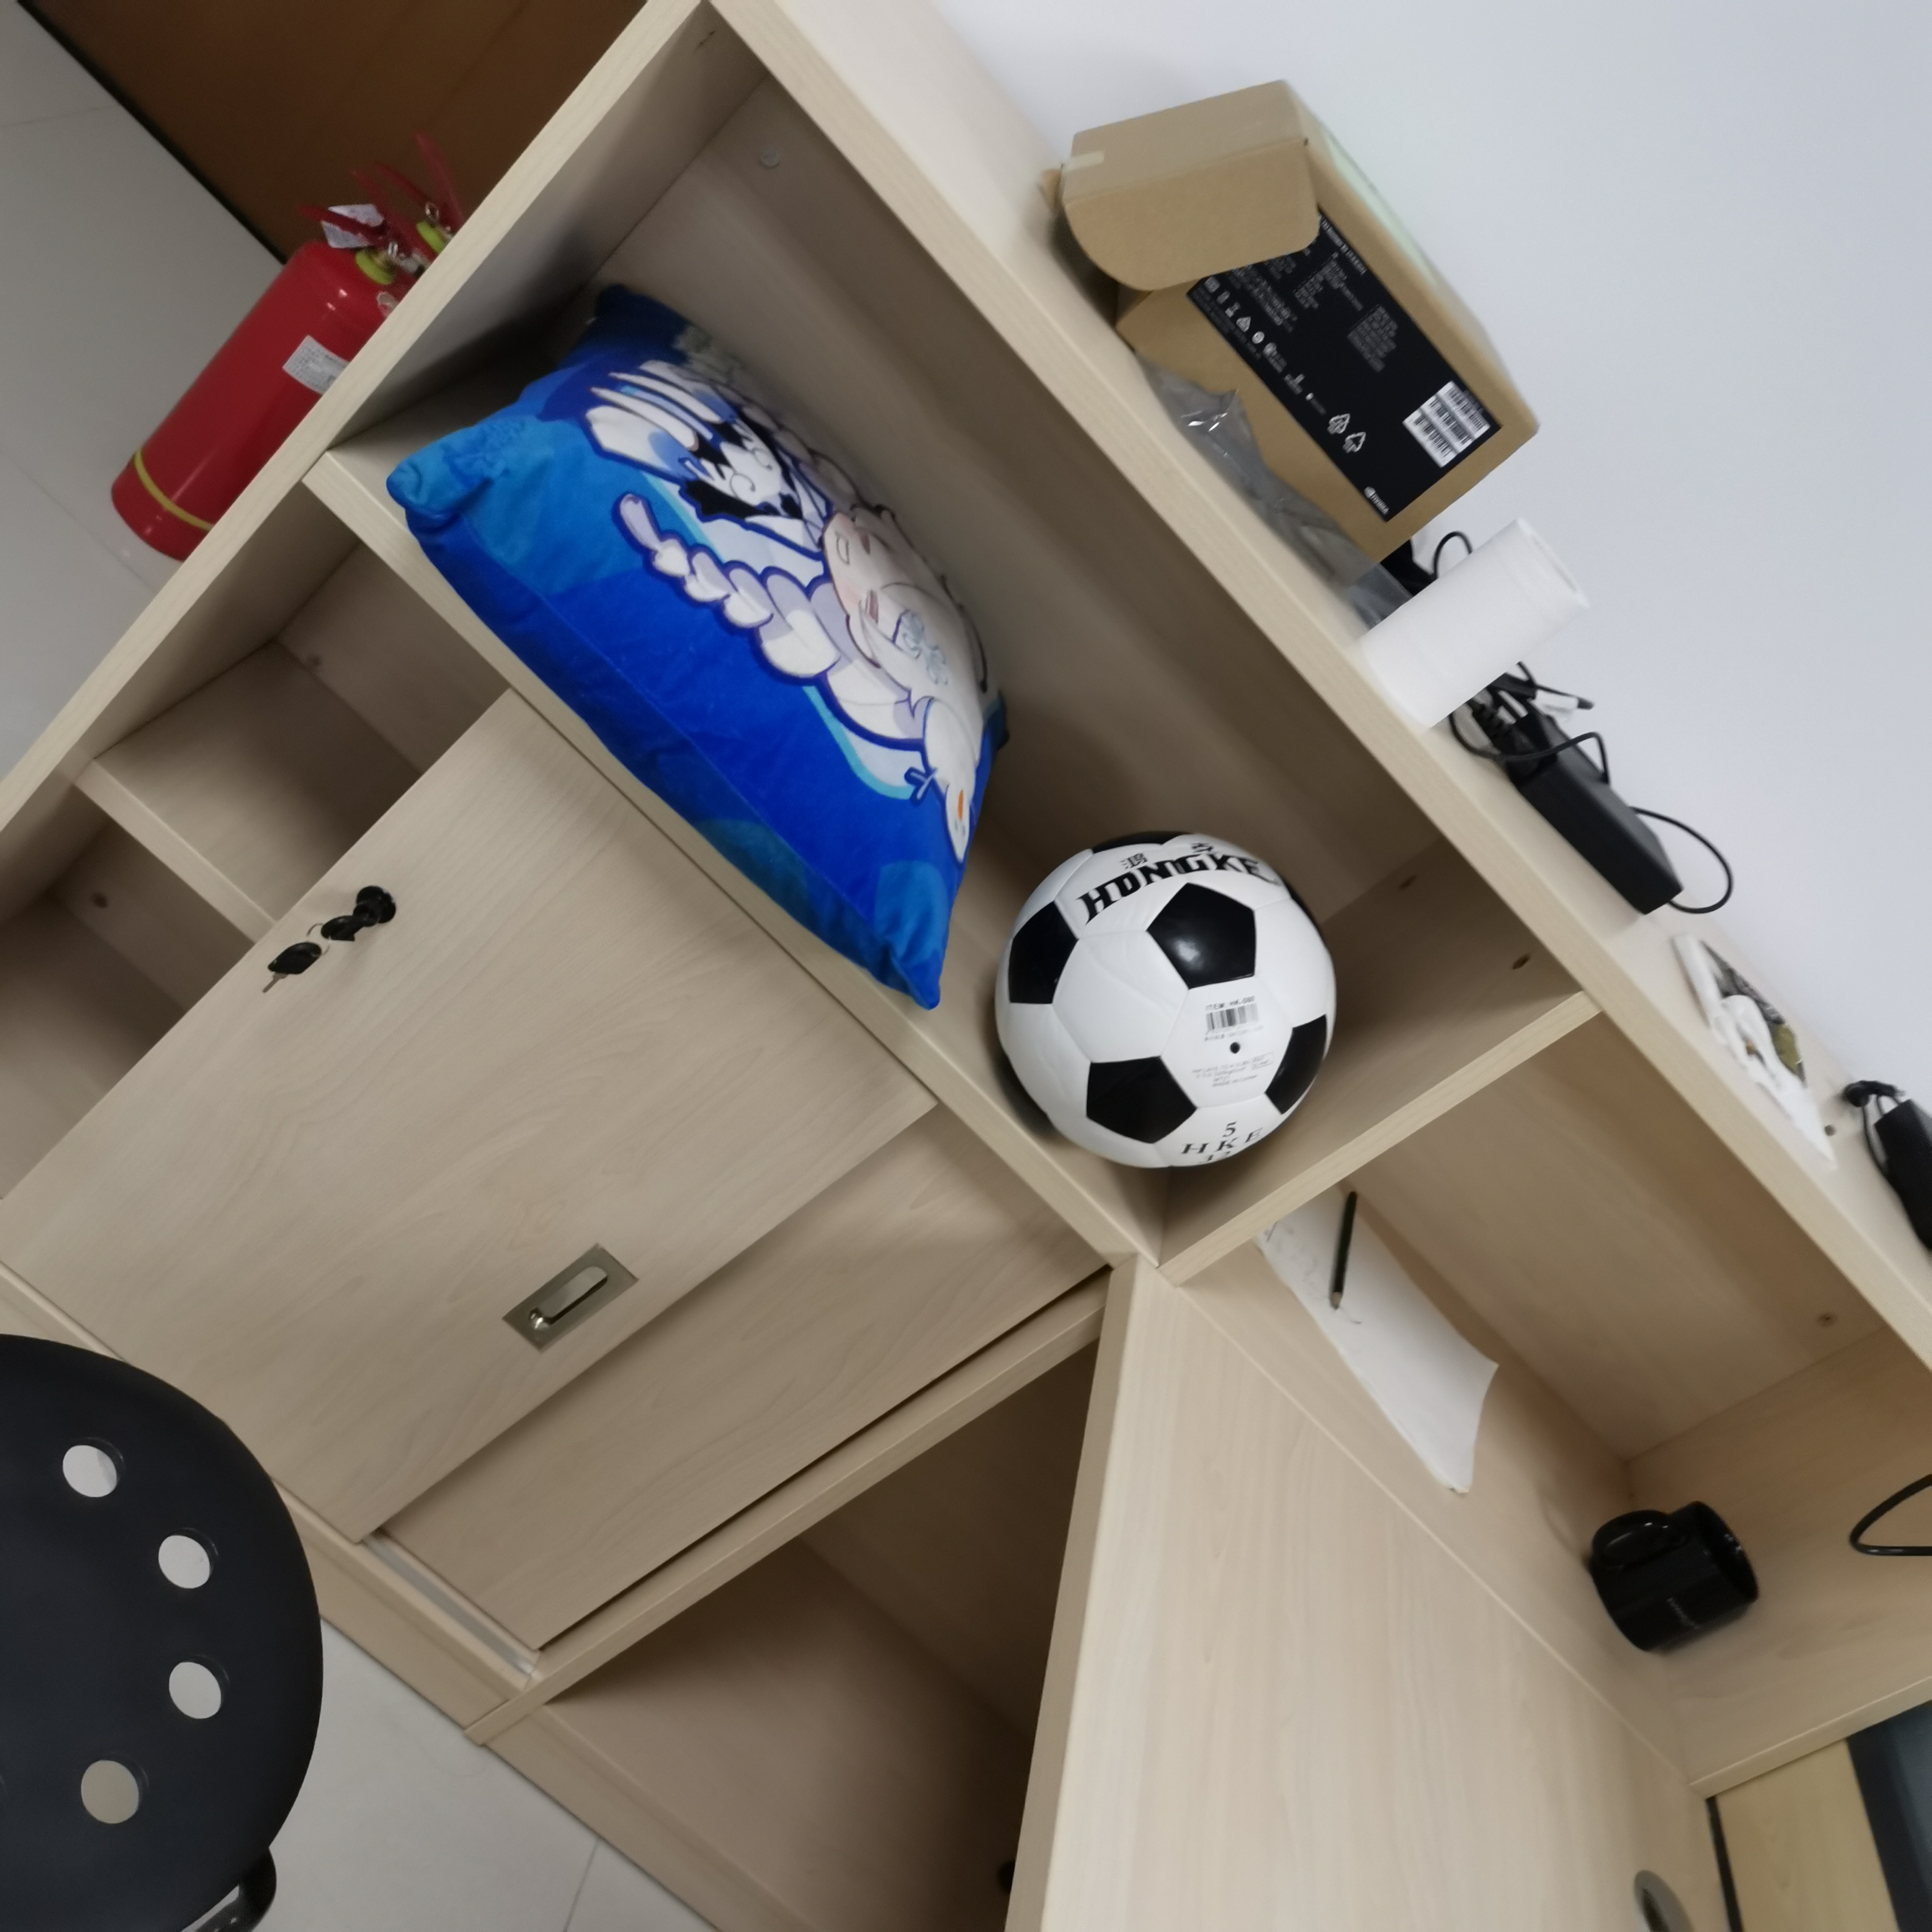football: (994, 832, 1339, 1171)
